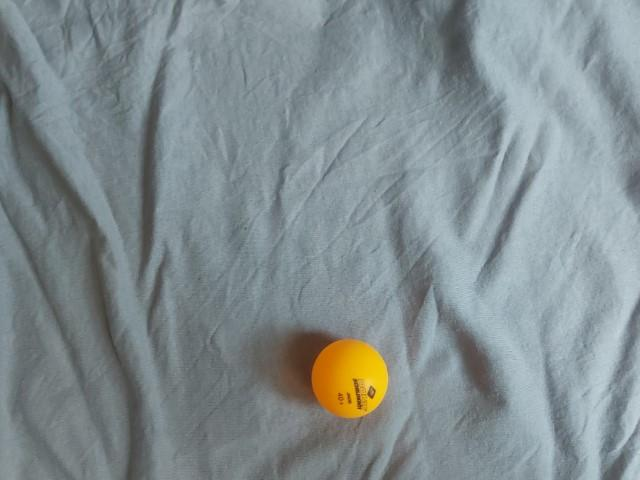oball: (305, 333, 401, 426)
